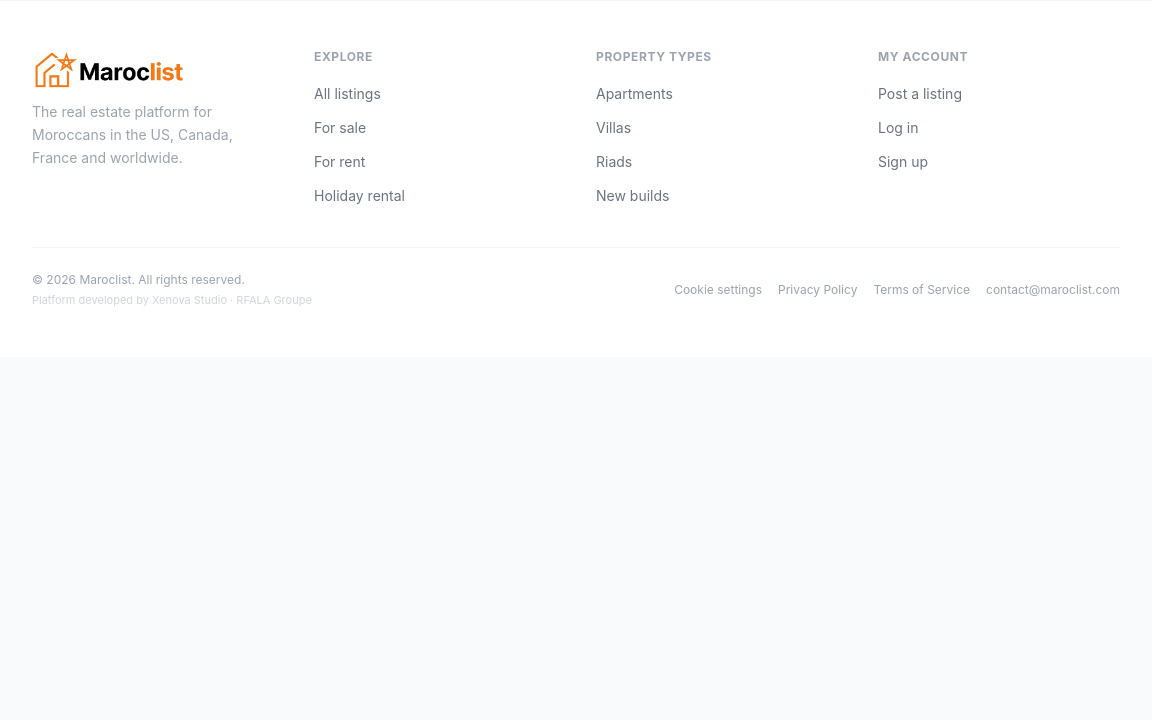
footer Cookie settings link › reopens the banner after a choice, with the saved choices pre-selected
The width and height of the screenshot is (1152, 720).
Click the button "Cookie settings".
click(718, 290)  # box [674, 282, 762, 298]
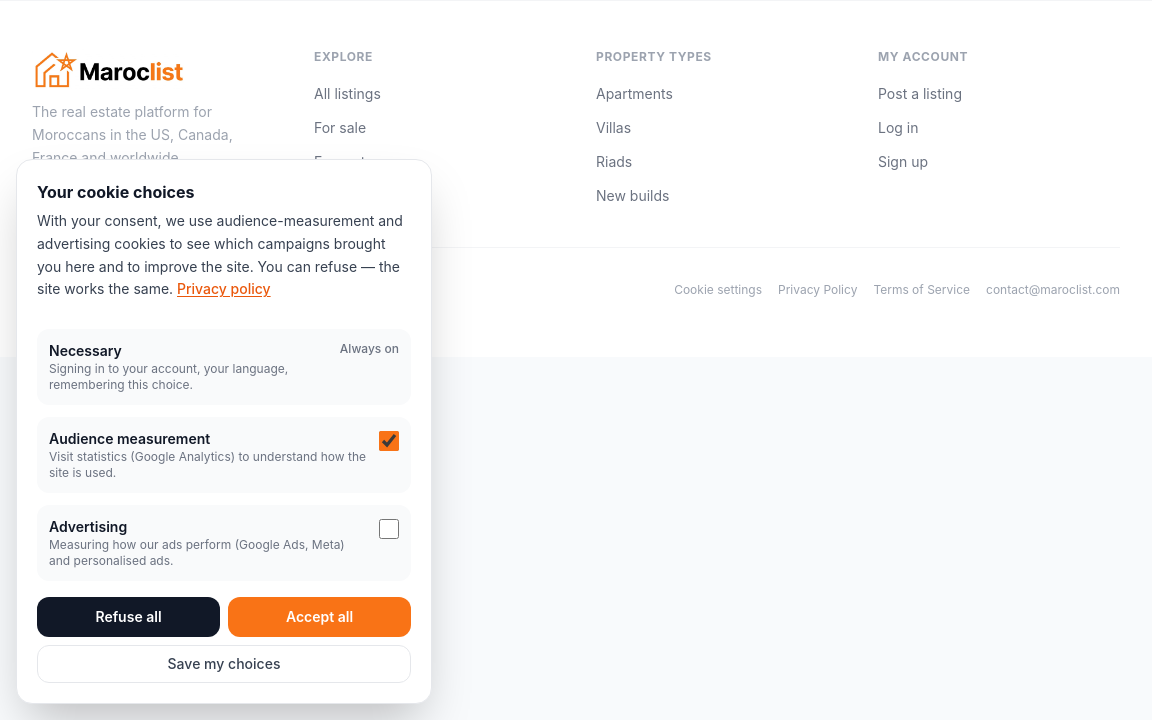
Now the element that starts with "Your cookie choices" is shown, box [16, 159, 432, 704]
Now the 1st switch is checked, box [379, 431, 399, 451]
Now the 2nd switch is not checked, box [379, 519, 399, 539]
